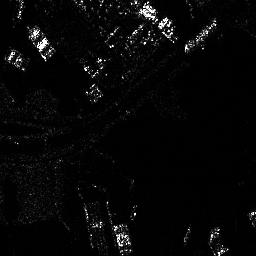ship: (182, 19, 218, 51)
